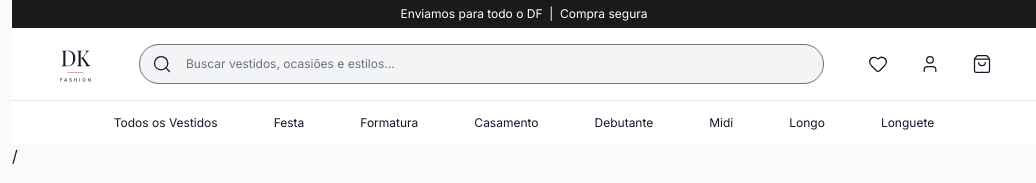
Test: Header › busca vestidos pelo formulário, mantém o termo e ignora buscas vazias
Submit the form with placeholder "Buscar vestidos, ocasiões e estilos...", box [139,44,824,84]
In the search field with placeholder "Buscar vestidos, ocasiões e estilos...": (498, 64) [186,55,811,73], type "  vestido rosa "
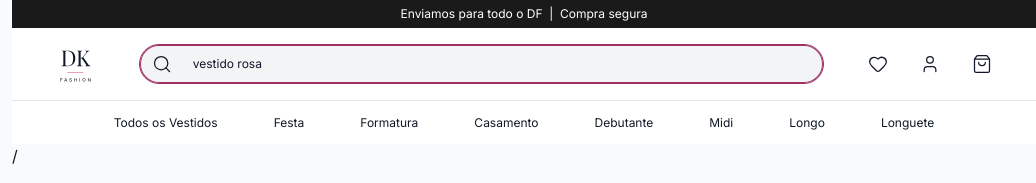
Submit the form with placeholder "Buscar vestidos, ocasiões e estilos...", box [139,44,824,84]
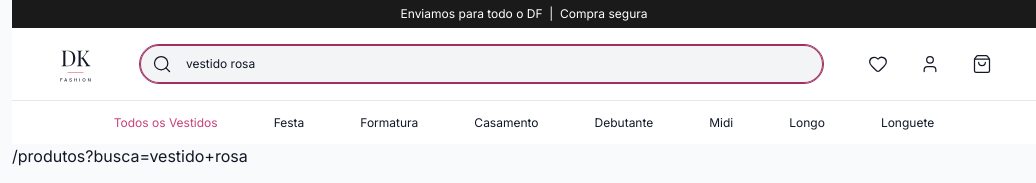
Expected: the text with test id "location" reads "/produtos?busca=vestido+rosa", [12,146,248,166]
